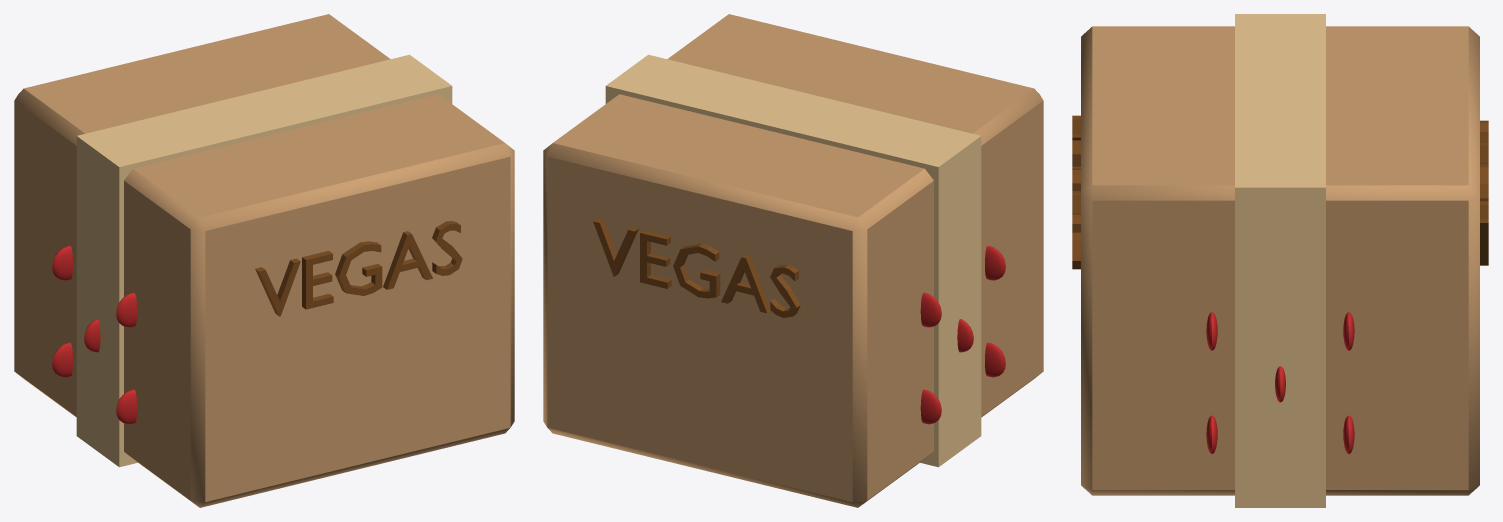
File: journey_box.glb
The picture shows the model from 3 angles, left to right: view 1: azimuth 30°, elevation 25°; view 2: azimuth 150°, elevation 25°; view 3: azimuth 270°, elevation 25°; orthographic projection. The views are drawn at different scales.
Parts seen in each view (by area): view 1: Box_body; view 2: Box_body; view 3: Box_body.
Part boxes in pixels (box(x1,y1,x2,y2)): Box_body: box(14, 14, 514, 507); Box_body: box(543, 14, 1043, 507); Box_body: box(1072, 14, 1488, 507).
Bounding box in the file's own units: 0.78 × 0.62 × 0.73.
